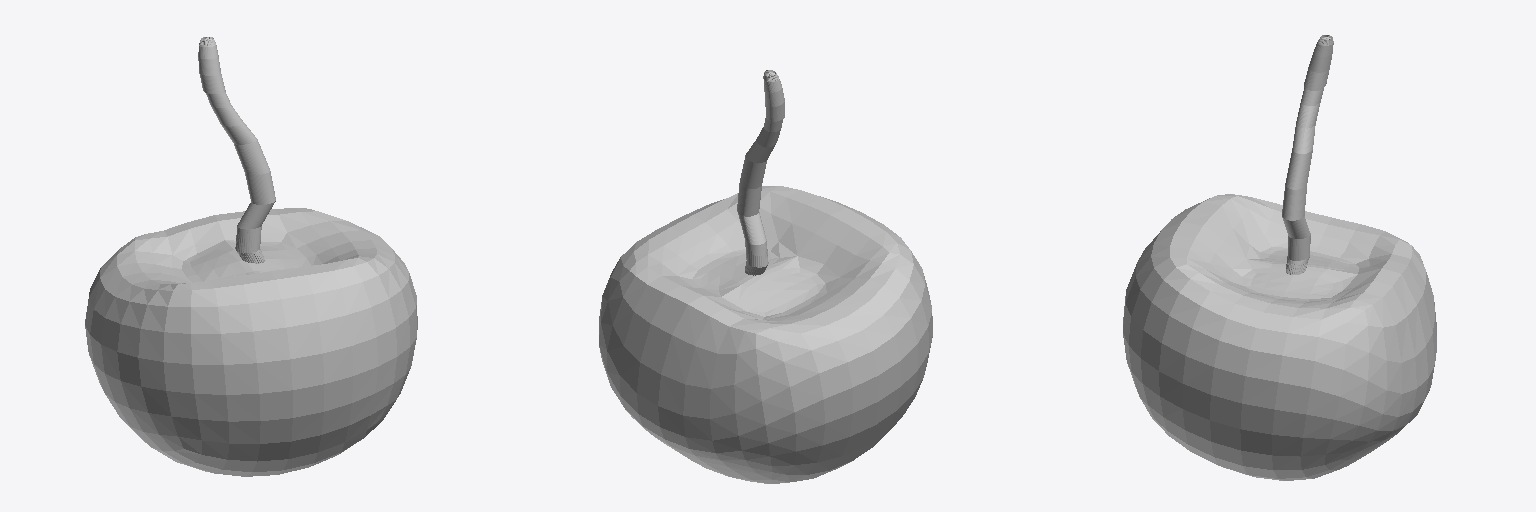
Rendered from Cherry_1_TEX.obj.
The picture shows the model from 3 angles: view 1: azimuth 30°, elevation 25°; view 2: azimuth 150°, elevation 25°; view 3: azimuth 270°, elevation 25°; orthographic projection.
Parts seen in each view (by area): view 1: Cherry; view 2: Cherry; view 3: Cherry.
Boxes of the visible parts, x1=… form: Cherry: x1=85, y1=37, x2=417, y2=476; Cherry: x1=599, y1=70, x2=932, y2=483; Cherry: x1=1123, y1=35, x2=1436, y2=480.
Bounding box in the file's own units: 1.03 × 1.42 × 0.9759.